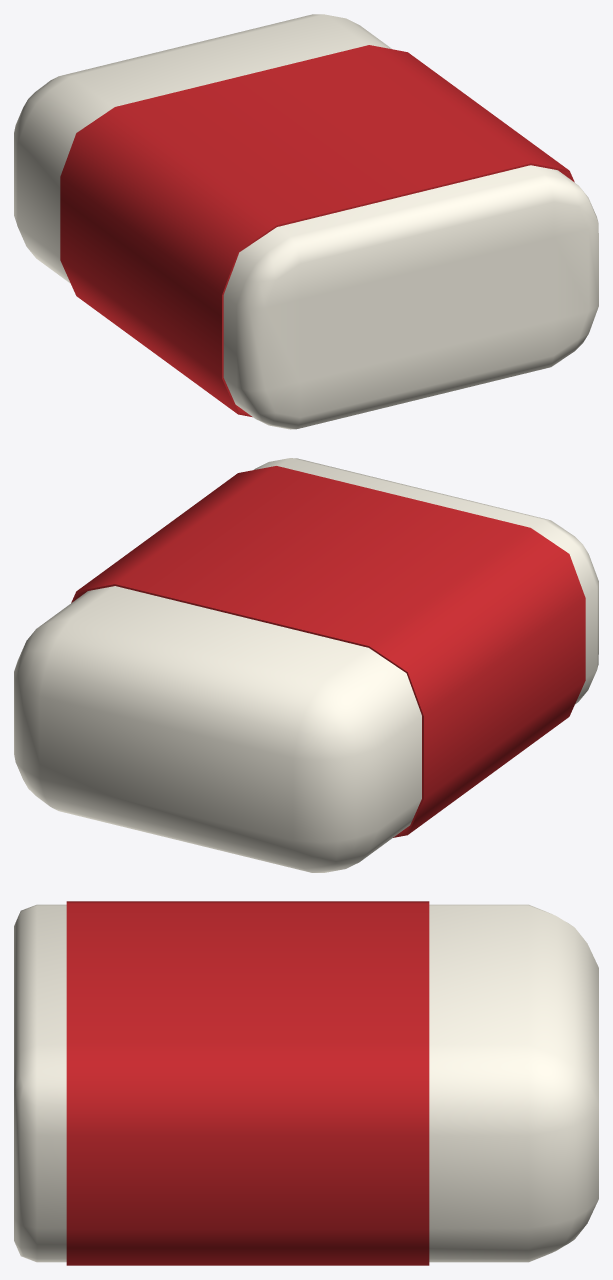
The model's file is eraser_round.fbx.
3 views of the same model, one above another, from view 1: azimuth 30°, elevation 25°; view 2: azimuth 150°, elevation 25°; view 3: azimuth 270°, elevation 25° (orthographic). The views are drawn at different scales.
Parts seen in each view (by area): view 1: eraser_round; view 2: eraser_round; view 3: eraser_round.
Boxes of the visible parts, x1,y1,x2,y2 form: eraser_round: (14,14,598,429); eraser_round: (14,458,598,872); eraser_round: (14,901,598,1265).
Bounding box in the file's own units: 0.2961 × 0.1527 × 0.3677.
